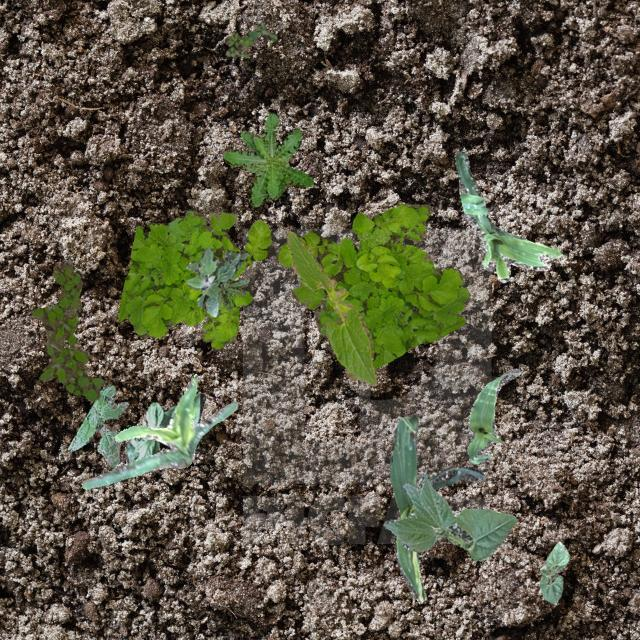crop: (389, 412, 483, 602), (80, 377, 236, 488), (454, 150, 562, 282), (286, 230, 376, 384), (382, 472, 516, 560), (124, 392, 204, 462), (466, 368, 520, 462), (538, 540, 568, 604)
weed: (274, 202, 468, 368), (118, 208, 272, 348), (31, 262, 102, 399), (222, 112, 312, 206), (66, 384, 126, 466), (185, 247, 248, 316), (223, 22, 276, 56), (216, 276, 248, 310)
